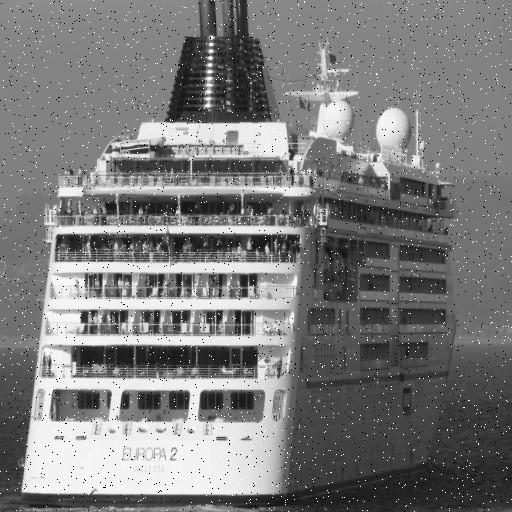cruises: (15, 1, 467, 503)
